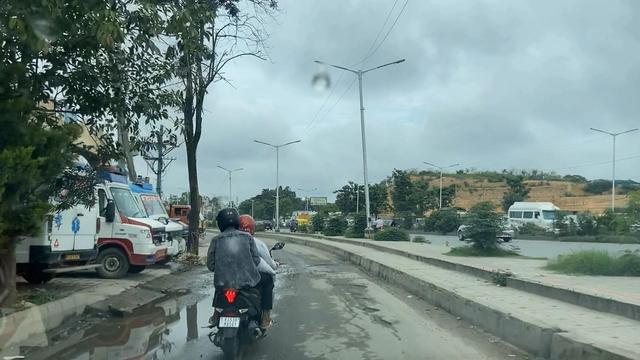LMV: (211, 210, 272, 346)
RoadDamages: (341, 278, 400, 342), (303, 256, 346, 281)
